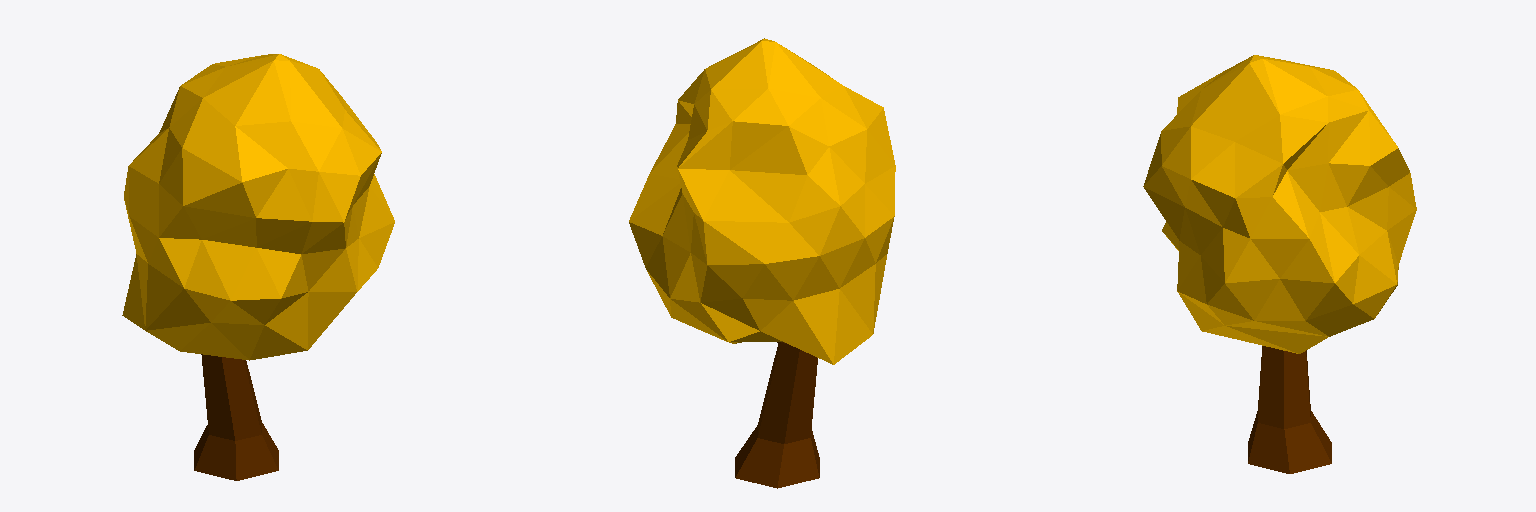
File: tree03.obj
3 views of the same model, side by side, from view 1: azimuth 30°, elevation 25°; view 2: azimuth 150°, elevation 25°; view 3: azimuth 270°, elevation 25° (orthographic).
Visible parts, largest first — view 1: Mesh60, Mesh59; view 2: Mesh60, Mesh59; view 3: Mesh60, Mesh59.
Part boxes in pixels (x1,y1,x2,y2): Mesh60: (122, 54, 394, 360); Mesh59: (194, 354, 278, 480); Mesh60: (629, 38, 895, 364); Mesh59: (735, 342, 819, 488); Mesh60: (1143, 55, 1416, 353); Mesh59: (1248, 346, 1331, 473).
Size of the model in its own units: 22.71 by 39.73 by 24.06.